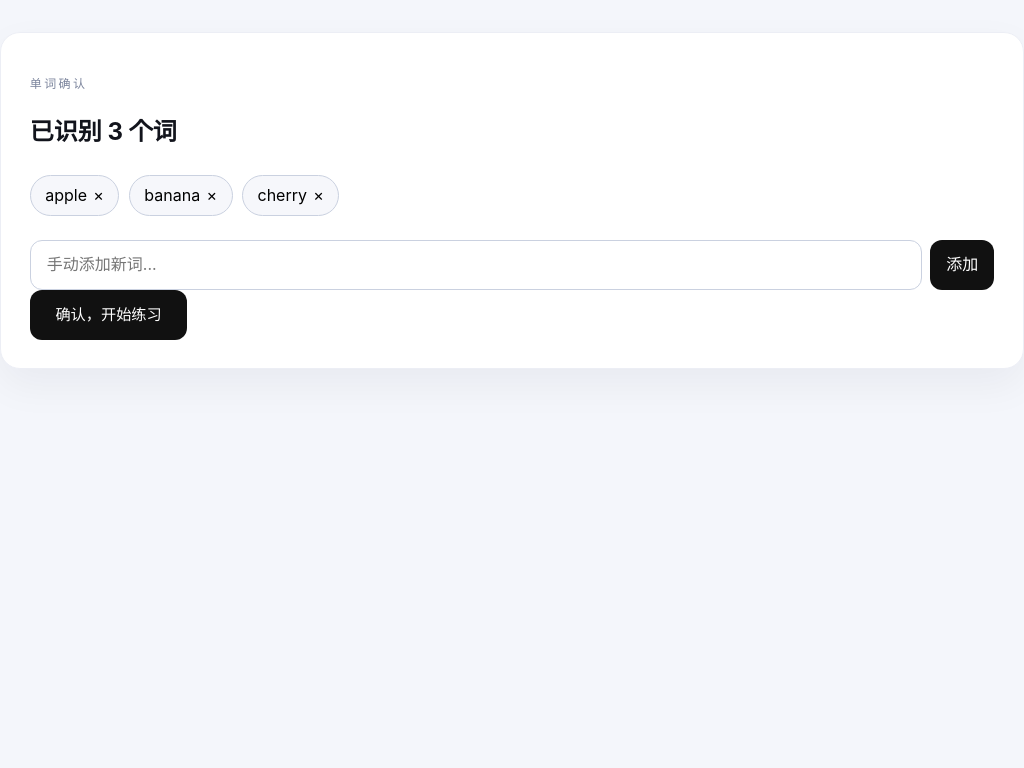
ConfirmWordsPage - Vocabulary Details Toggle › Toggle default state (Requirements 1.2) › should show toggle label "生成词汇详情"
Click the button "确认，开始练习".
click(109, 315)  # box 30,290 -> 187,340
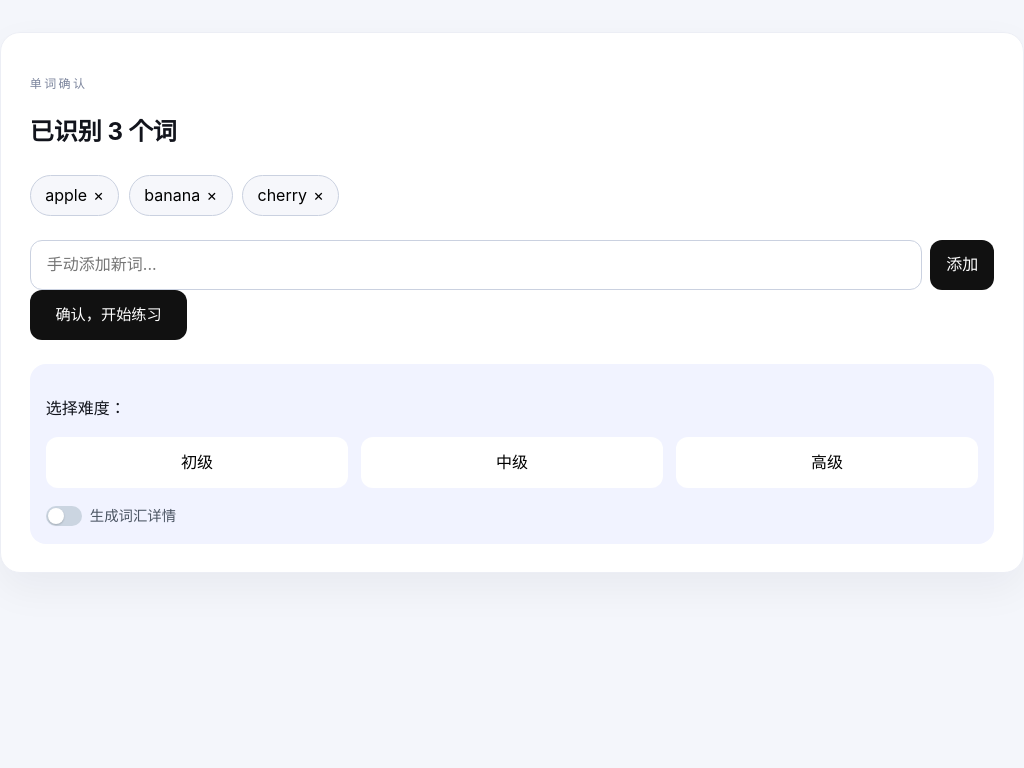
Expected: the text "生成词汇详情" is shown, 90,504 -> 176,528
